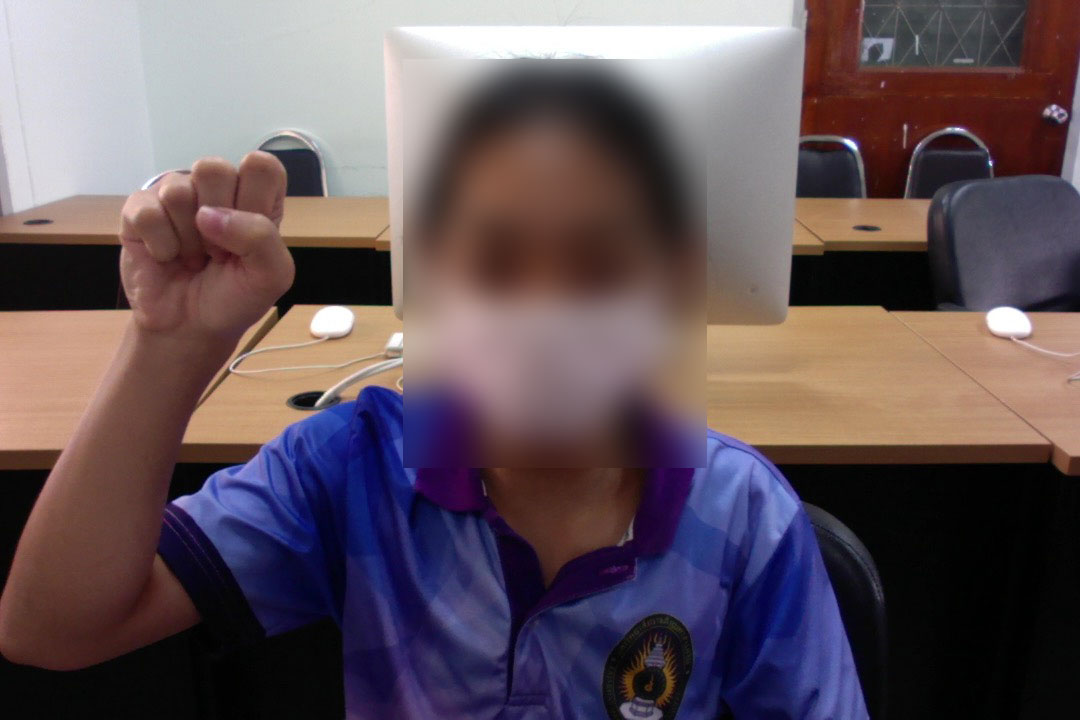sor: (108, 138, 304, 373)
